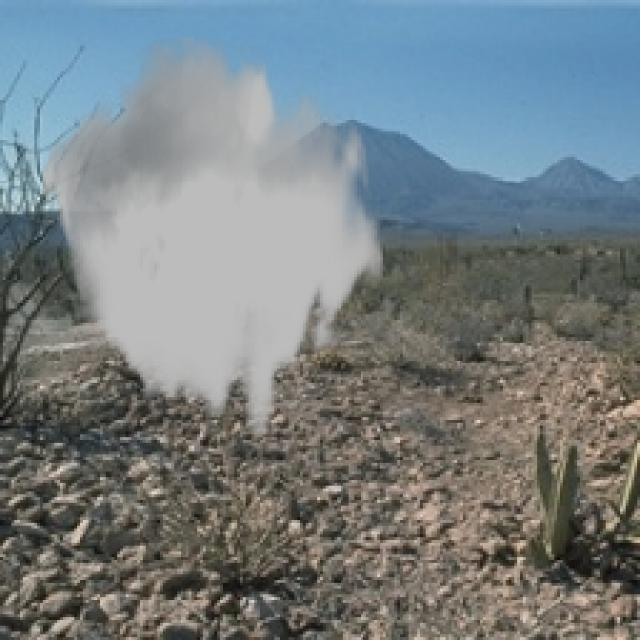Smoke: (40, 37, 386, 434)
